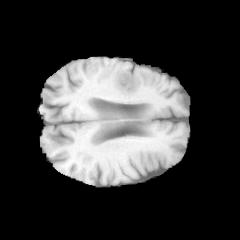glioma: (114, 70, 141, 96)
